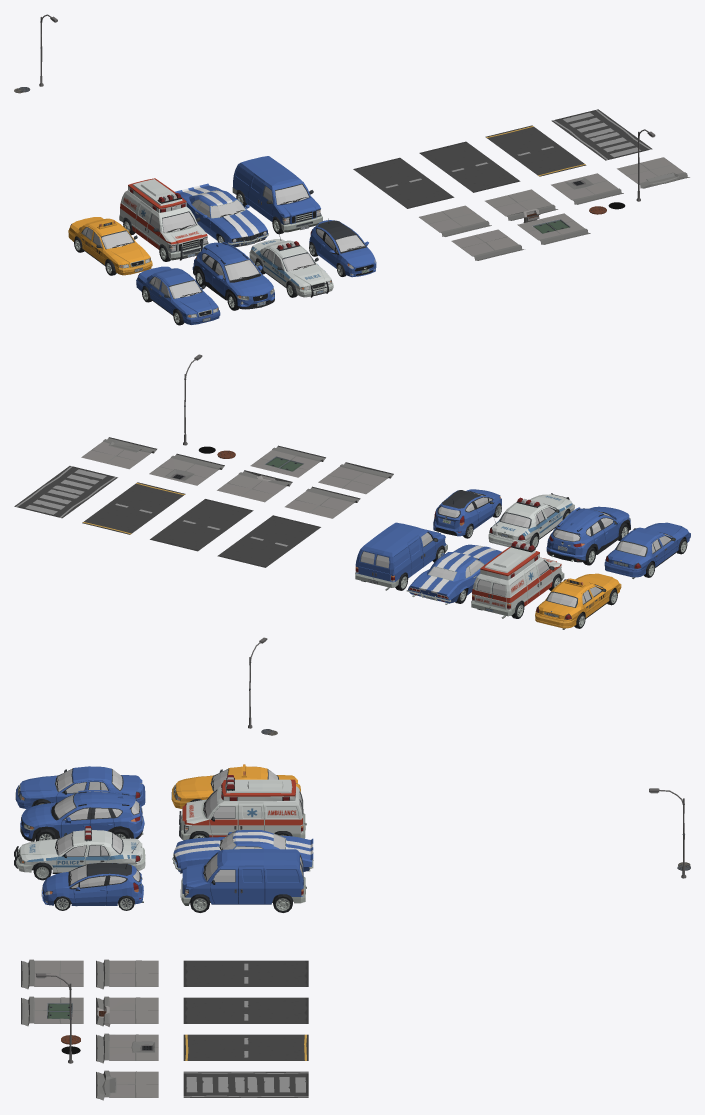
File: boxCross.glb
3 renders of one model, top to bottom at view 1: azimuth 30°, elevation 25°; view 2: azimuth 150°, elevation 25°; view 3: azimuth 270°, elevation 25°, orthographic. The views are drawn at different scales.
Parts seen in each view (by area): view 1: car-ambulance, car-van, car-suv, car-muscle, car-police, car-sedan, car-taxi, road-alt, road-yellow, road, road-crossing, car-hatch (+6 smaller); view 2: car-ambulance, car-suv, car-van, car-muscle, car-taxi, car-sedan, car-police, road-crossing, road, road-yellow, road-alt, car-hatch (+6 smaller); view 3: car-ambulance, car-van, car-suv, car-police, car-hatch, road, road-alt, road-yellow, road-crossing, car-sedan, car-muscle, car-taxi (+6 smaller).
Part boxes in pixels (x1,y1,x2,y2): car-ambulance: [119, 178, 208, 260]; car-van: [232, 156, 322, 232]; car-suv: [192, 242, 274, 309]; car-muscle: [175, 183, 268, 247]; car-police: [249, 230, 333, 297]; car-sedan: [136, 266, 220, 324]; car-taxi: [68, 217, 152, 275]; road-alt: [419, 141, 520, 192]; road-yellow: [485, 125, 586, 176]; road: [353, 157, 454, 208]; road-crossing: [551, 109, 652, 160]; car-hatch: [309, 218, 376, 277]; car-ambulance: [471, 541, 564, 618]; car-suv: [546, 506, 630, 562]; car-van: [355, 522, 447, 590]; car-muscle: [406, 544, 501, 604]; car-taxi: [535, 573, 621, 629]; car-sedan: [604, 522, 690, 578]; car-police: [488, 493, 574, 547]; road-crossing: [14, 466, 117, 518]; road: [217, 515, 320, 567]; road-yellow: [82, 482, 185, 534]; road-alt: [150, 499, 253, 551]; car-hatch: [433, 489, 501, 536]; car-ambulance: [179, 775, 306, 840]; car-van: [180, 849, 306, 905]; car-suv: [20, 790, 144, 841]; car-police: [14, 826, 145, 873]; car-hatch: [41, 862, 143, 906]; road: [183, 960, 308, 986]; road-alt: [183, 997, 308, 1023]; road-yellow: [183, 1034, 308, 1060]; road-crossing: [183, 1071, 308, 1097]; car-sedan: [15, 766, 145, 808]; car-muscle: [172, 830, 313, 873]; car-taxi: [171, 764, 300, 808].
Size of the model in its own units: 57.17 by 8.91 by 54.1.
Materials: 17 (9 with a texture image).
